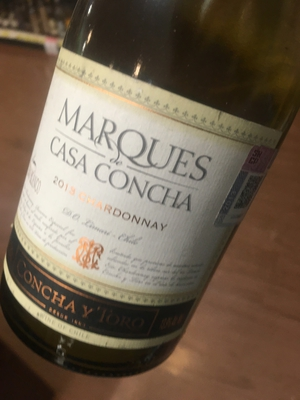marques de casa concha chardonnay: (4, 6, 294, 378)
